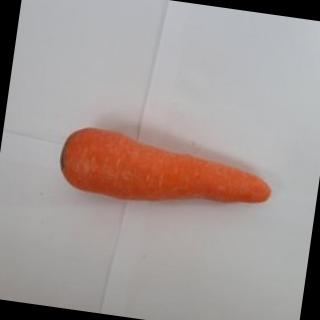Wortel: (56, 123, 279, 220)
